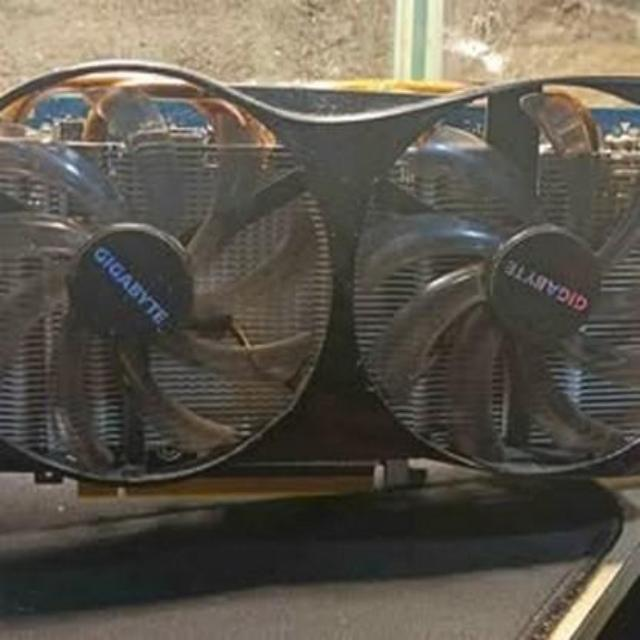GPU: (0, 50, 640, 513)
